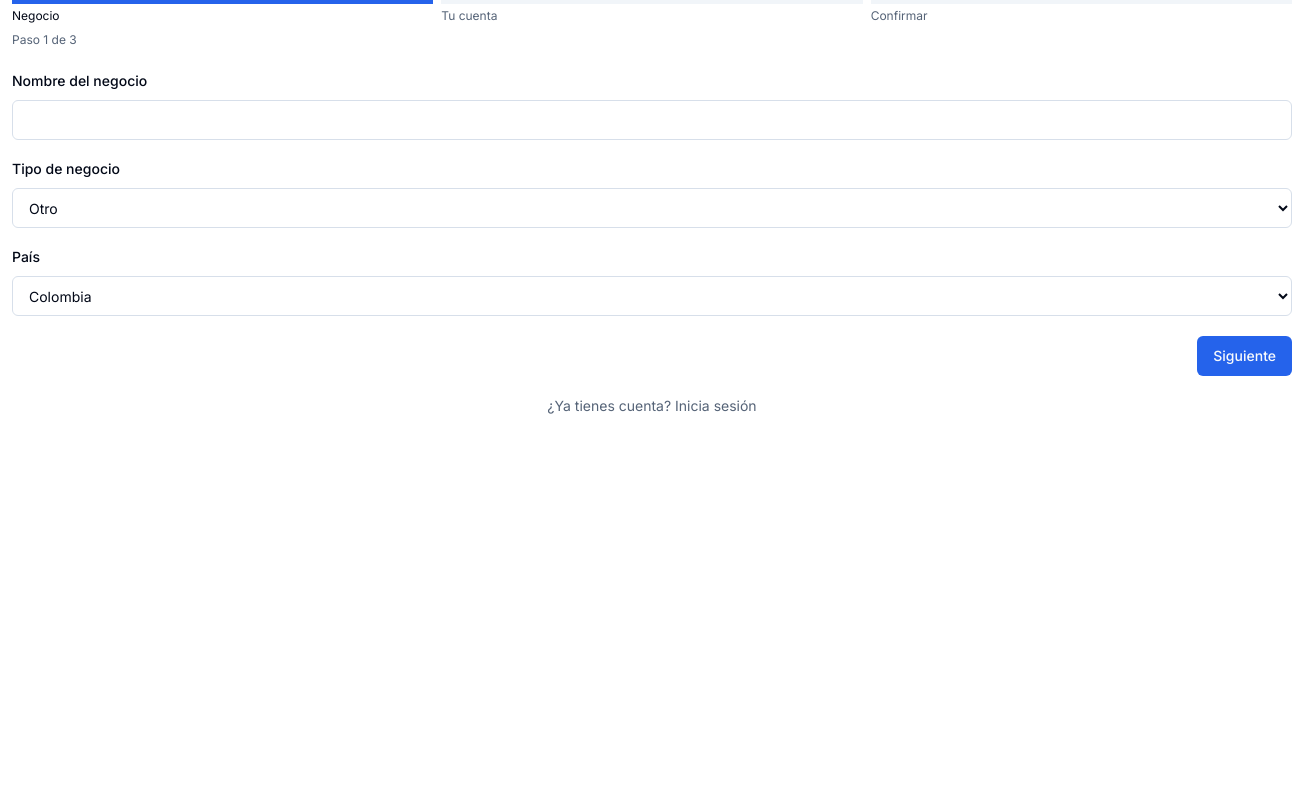
Test: OnboardingWizard › avisa si las contraseñas no coinciden y no pasa al resumen
The image size is (1304, 800).
Step 1. Type "Panadería La Espiga" into the field labelled "Nombre del negocio" → (652, 120), box x1=12 y1=100 x2=1292 y2=140
Step 2. Click the button "Siguiente" → (1245, 356), box x1=1197 y1=336 x2=1292 y2=376
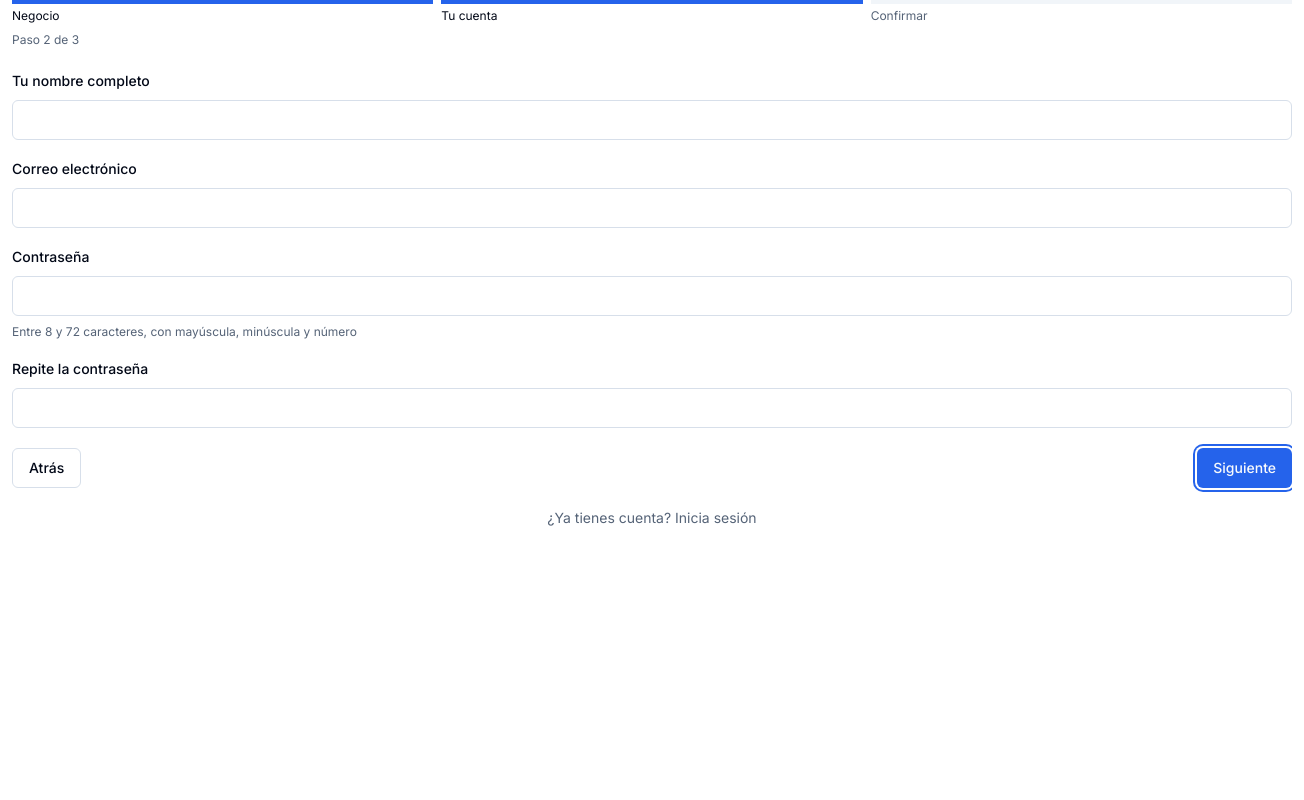
Step 3. Type "Ana Gómez" into the field labelled "Tu nombre completo" → (652, 120), box x1=12 y1=100 x2=1292 y2=140
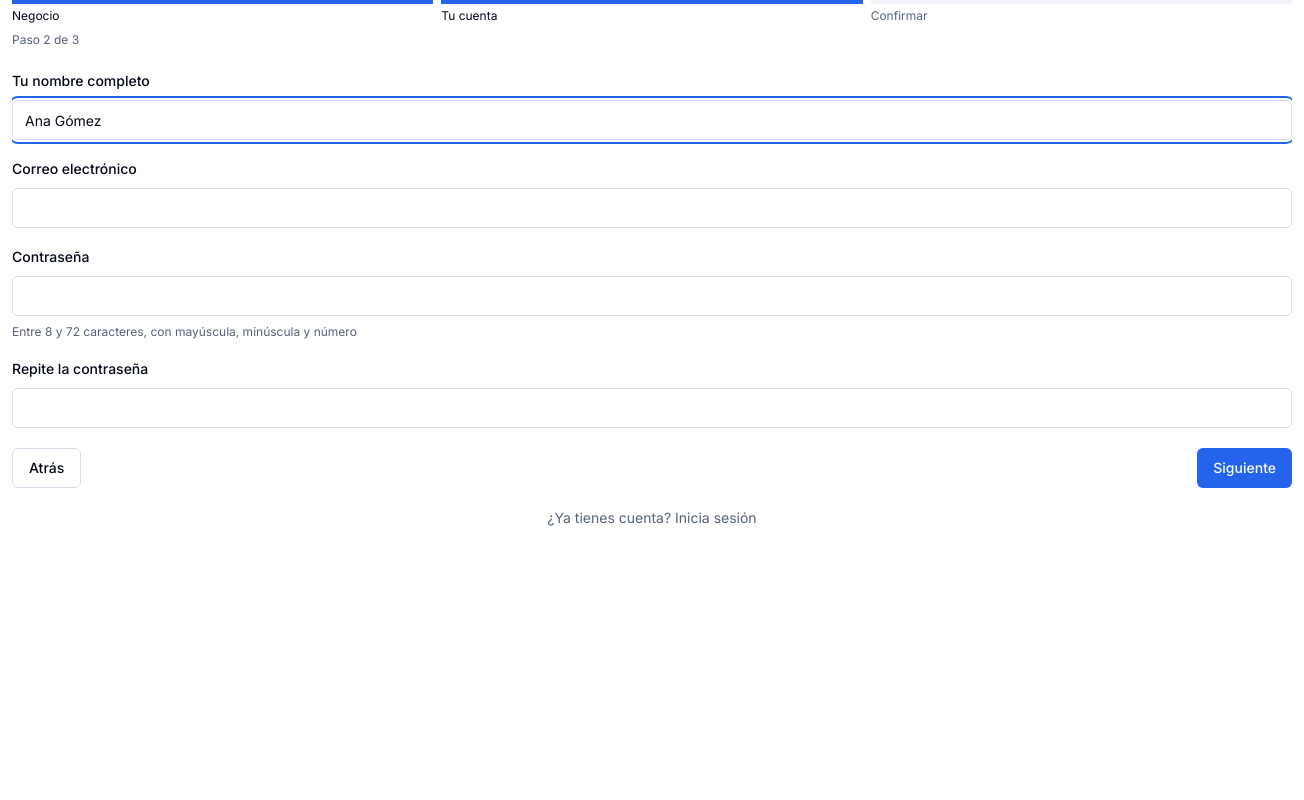
Step 4. Type "ana@example.com" into the field labelled "Correo electrónico" → (652, 208), box x1=12 y1=188 x2=1292 y2=228
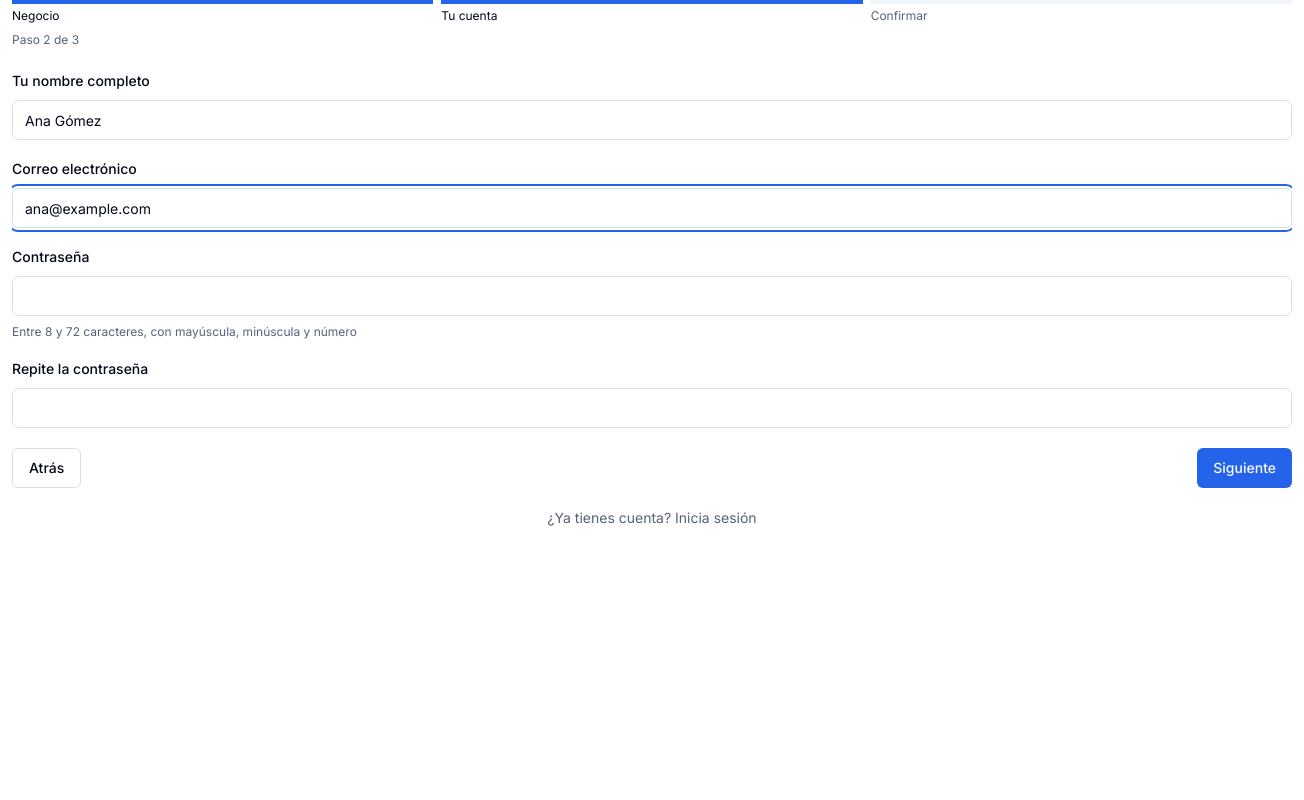
Step 5. Type "ClaveSegura1" into the password field labelled "Contraseña" → (652, 296), box x1=12 y1=276 x2=1292 y2=316
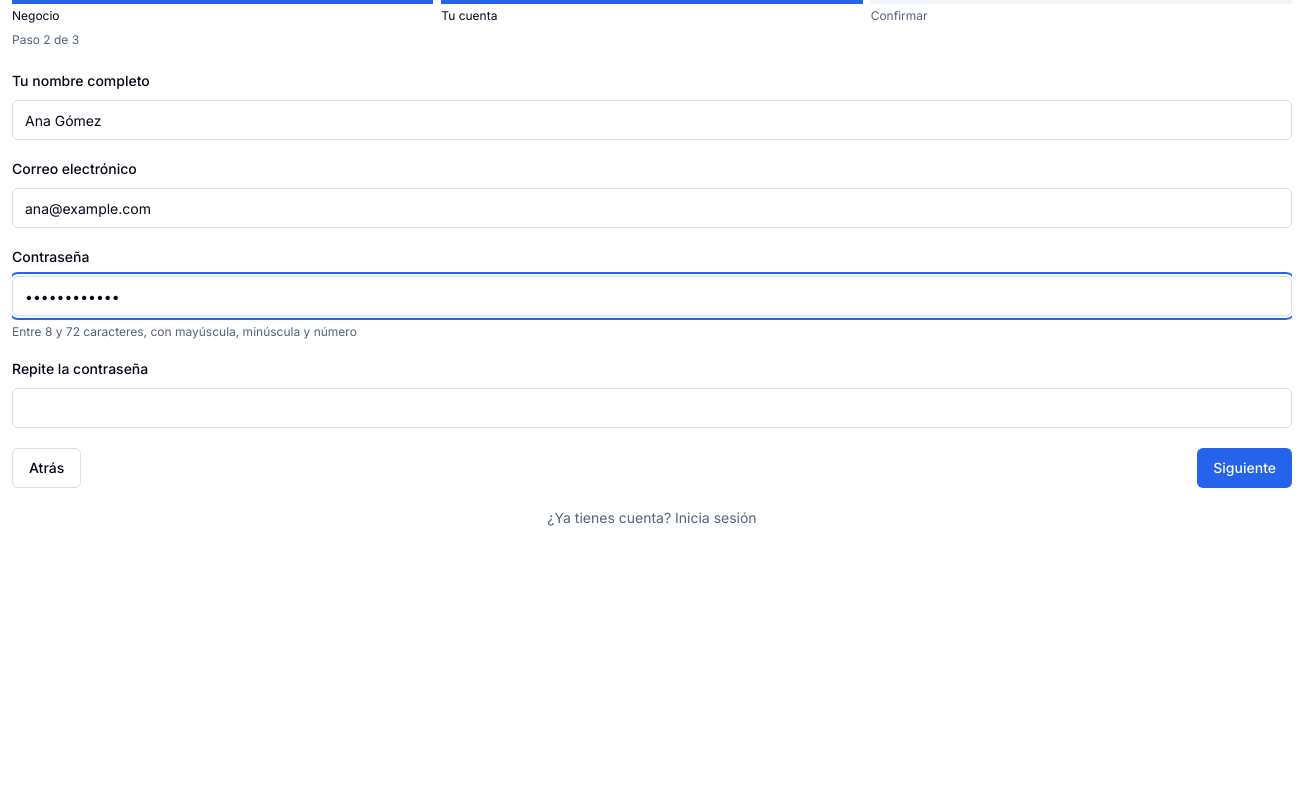
Step 6. Type "ClaveSegura2" into the password field labelled "Repite la contraseña" → (652, 408), box x1=12 y1=388 x2=1292 y2=428
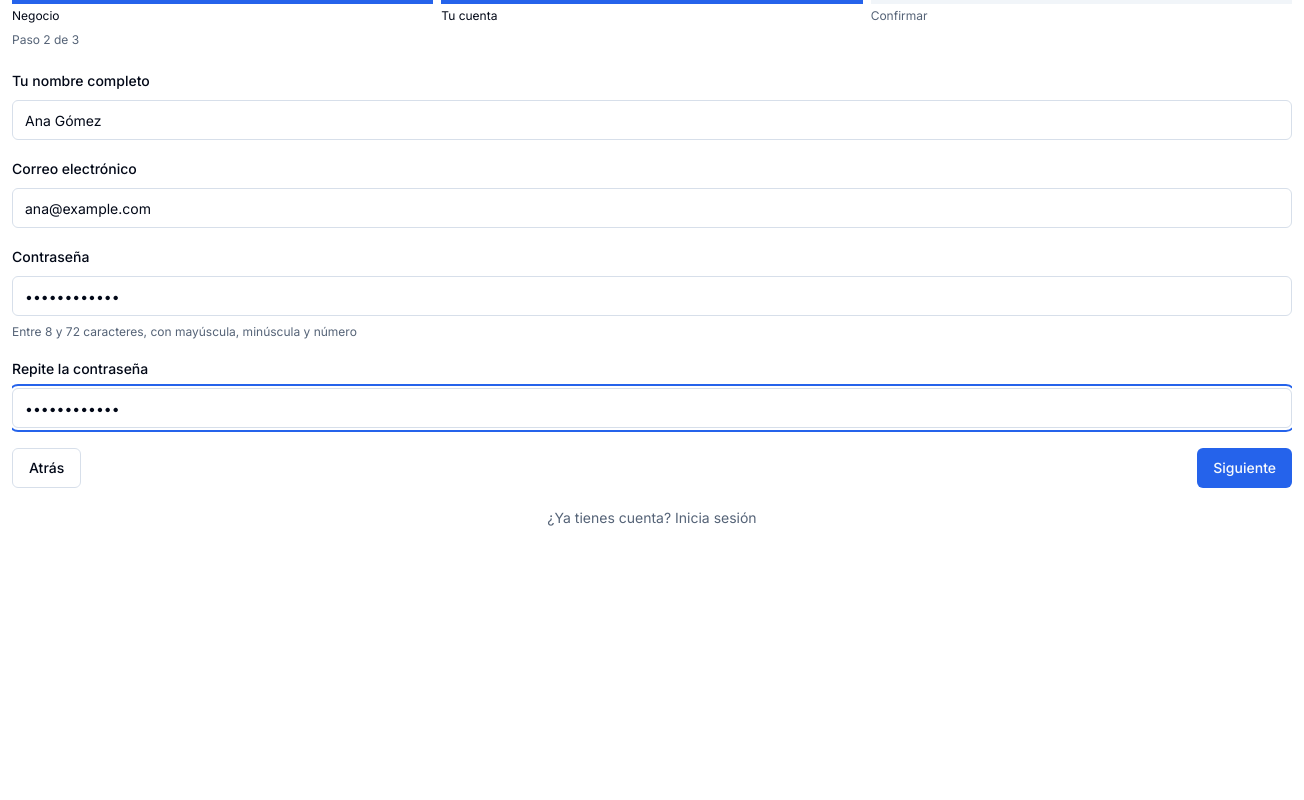
Step 7. Click the button "Siguiente" → (1245, 468), box x1=1197 y1=448 x2=1292 y2=488
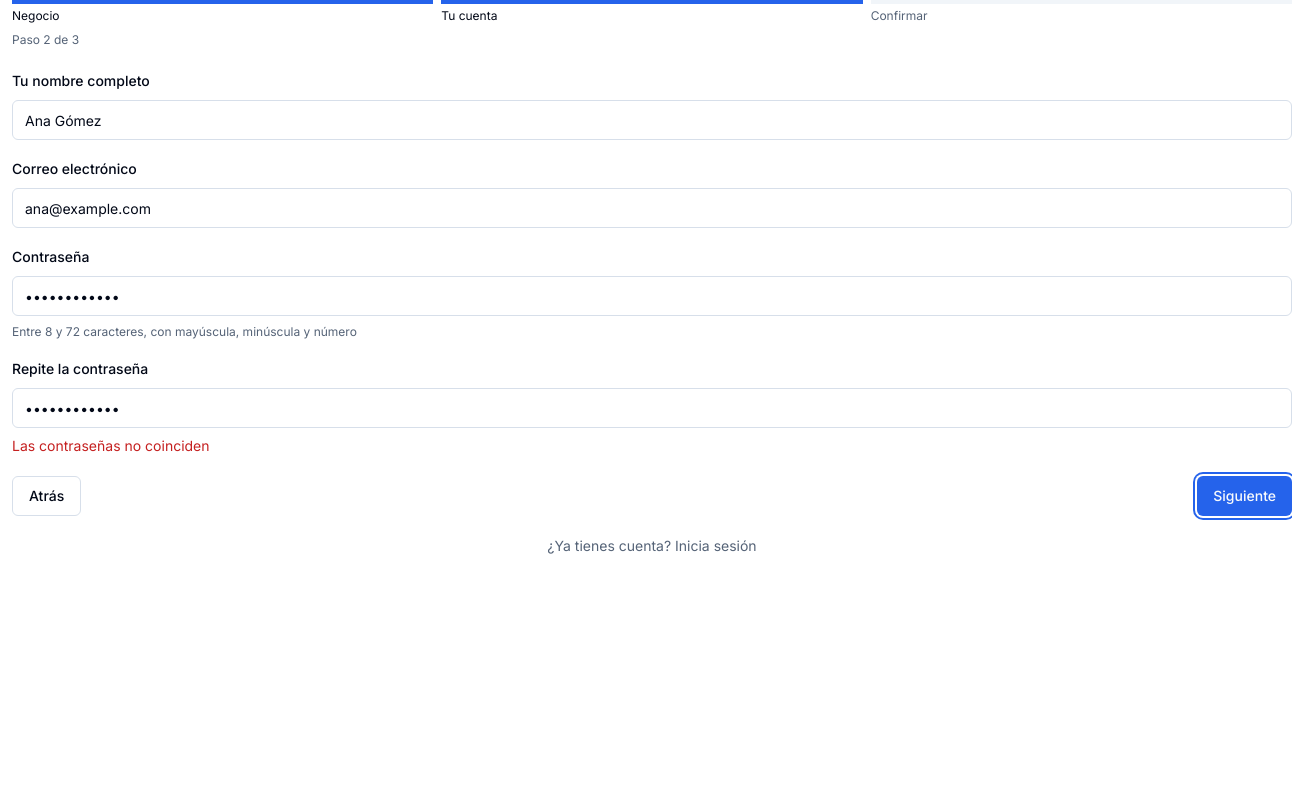
Check: the text "Las contraseñas no coinciden" is shown, box x1=12 y1=437 x2=210 y2=454
